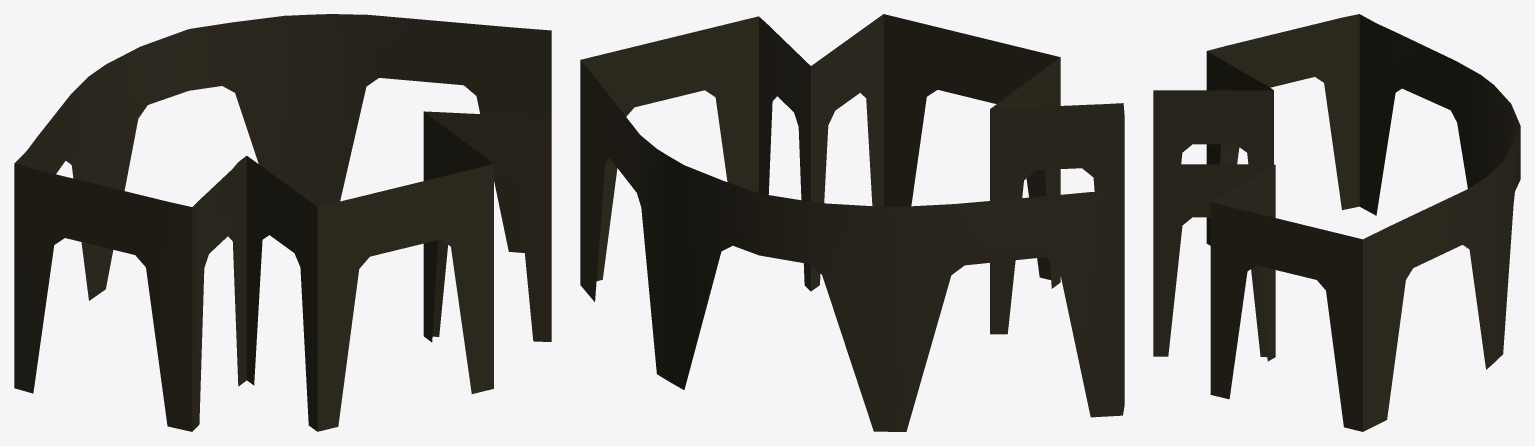
The model's file is Road_DoubleCorner_Bridge.fbx.
3 views of the same model, side by side, from view 1: azimuth 30°, elevation 25°; view 2: azimuth 150°, elevation 25°; view 3: azimuth 270°, elevation 25° (orthographic). The views are drawn at different scales.
Parts seen in each view (by area): view 1: Road_DoubleCorner_Bridge; view 2: Road_DoubleCorner_Bridge; view 3: Road_DoubleCorner_Bridge.
Boxes of the visible parts, x1,y1,x2,y2 form: Road_DoubleCorner_Bridge: (14,14,551,431); Road_DoubleCorner_Bridge: (580,14,1124,431); Road_DoubleCorner_Bridge: (1153,14,1520,431).
Bounding box in the file's own units: 0.9089 × 0.3623 × 0.6265.
